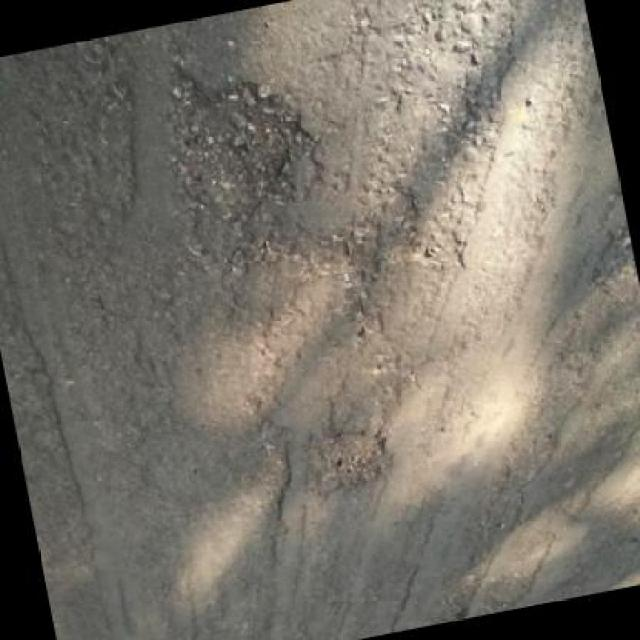pothole1: (146, 51, 325, 228), (303, 420, 397, 503), (419, 579, 483, 624)
